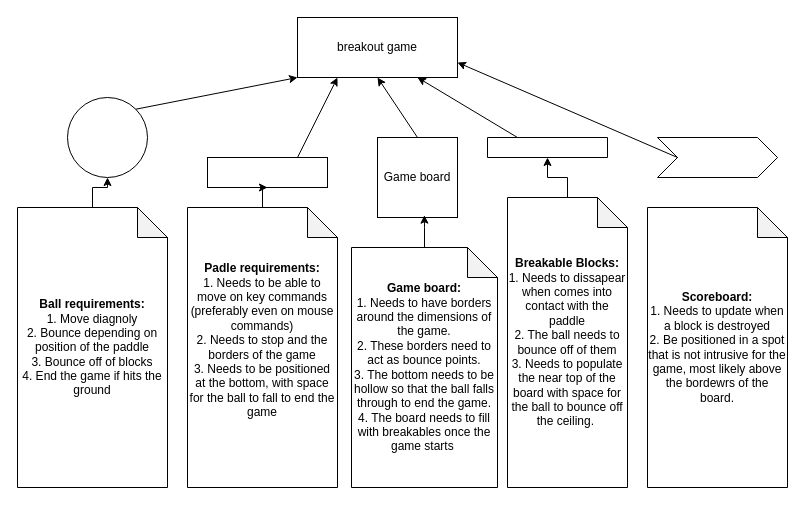
The diagram is 805 pixels wide and 505 high, and some of its shapes have lost their labels. Here are the shapes that lost their labels. From the top down, the box of each, then its label:
(66, 96, 148, 178): Ball logic
(486, 136, 608, 158): Breakables
(656, 136, 778, 178): Scoreboard
(206, 156, 328, 188): Paddle
